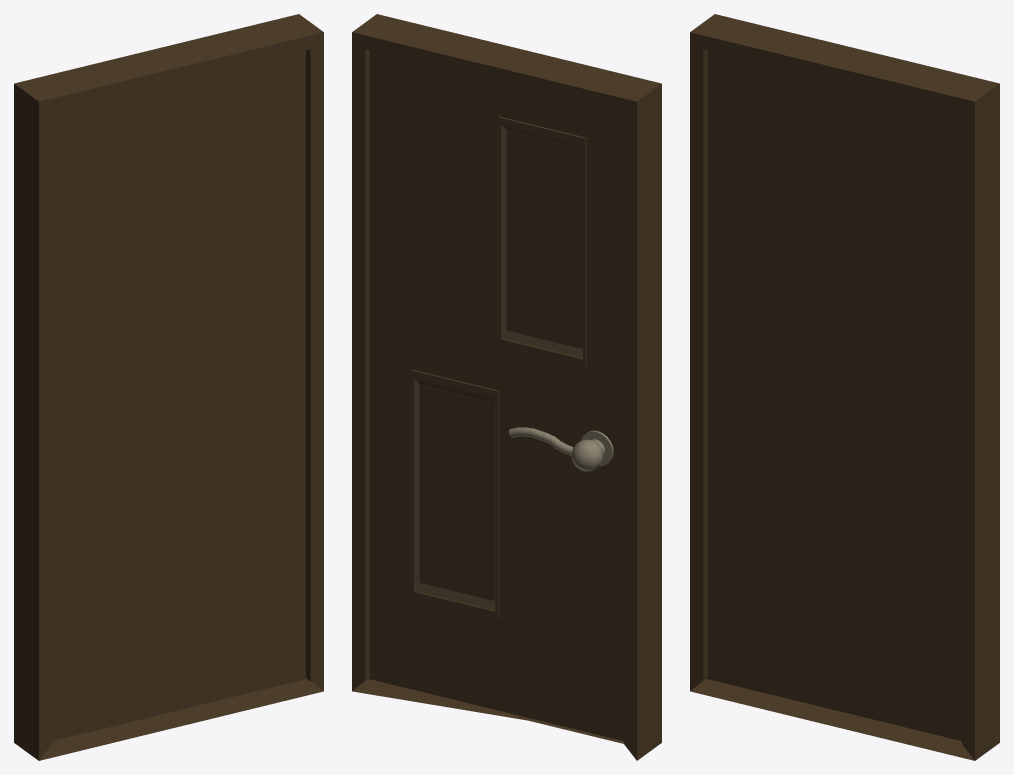
The model's file is Door.fbx.
3 views of the same model, side by side, from view 1: azimuth 30°, elevation 25°; view 2: azimuth 150°, elevation 25°; view 3: azimuth 330°, elevation 25° (orthographic).
Parts seen in each view (by area): view 1: pCube2, pCube3; view 2: pCube2, pCube3, DoorHandle; view 3: pCube2, pCube3.
Boxes of the visible parts, x1,y1,x2,y2 form: pCube2: [52, 50, 307, 740]; pCube3: [14, 14, 323, 760]; pCube2: [368, 50, 623, 740]; pCube3: [352, 14, 661, 760]; DoorHandle: [509, 427, 613, 471]; pCube2: [706, 50, 961, 740]; pCube3: [690, 14, 999, 760].
Size of the model in its own units: 3.26 by 7.21 by 0.7568.
